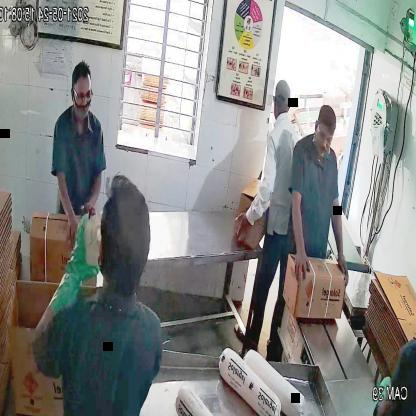goggles: (68, 88, 95, 108), (314, 127, 334, 148)
